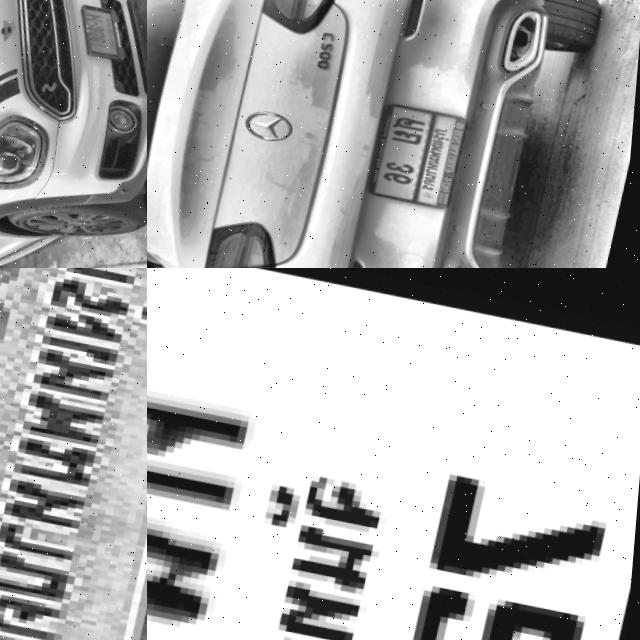license-plate: (147, 268, 640, 640), (0, 268, 147, 640), (367, 95, 479, 209), (72, 0, 143, 63)
